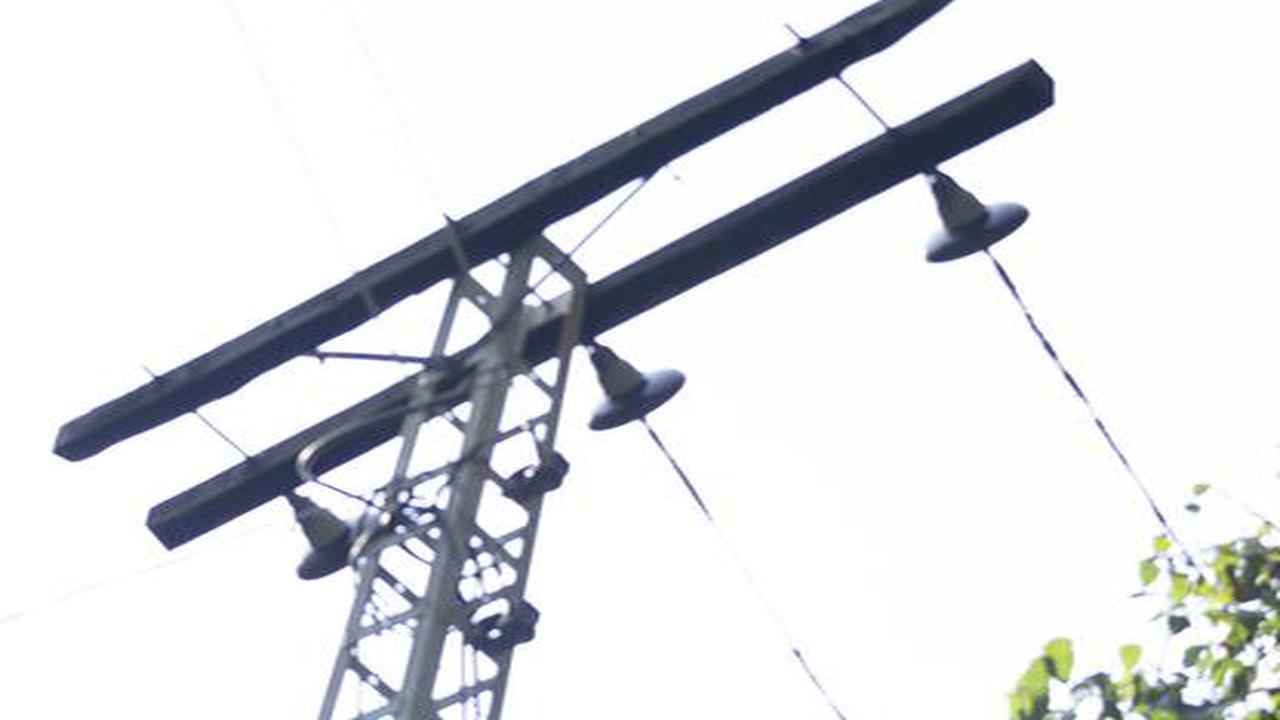insulator_disc: (915, 175, 1032, 267), (580, 347, 691, 434), (281, 498, 363, 584)
